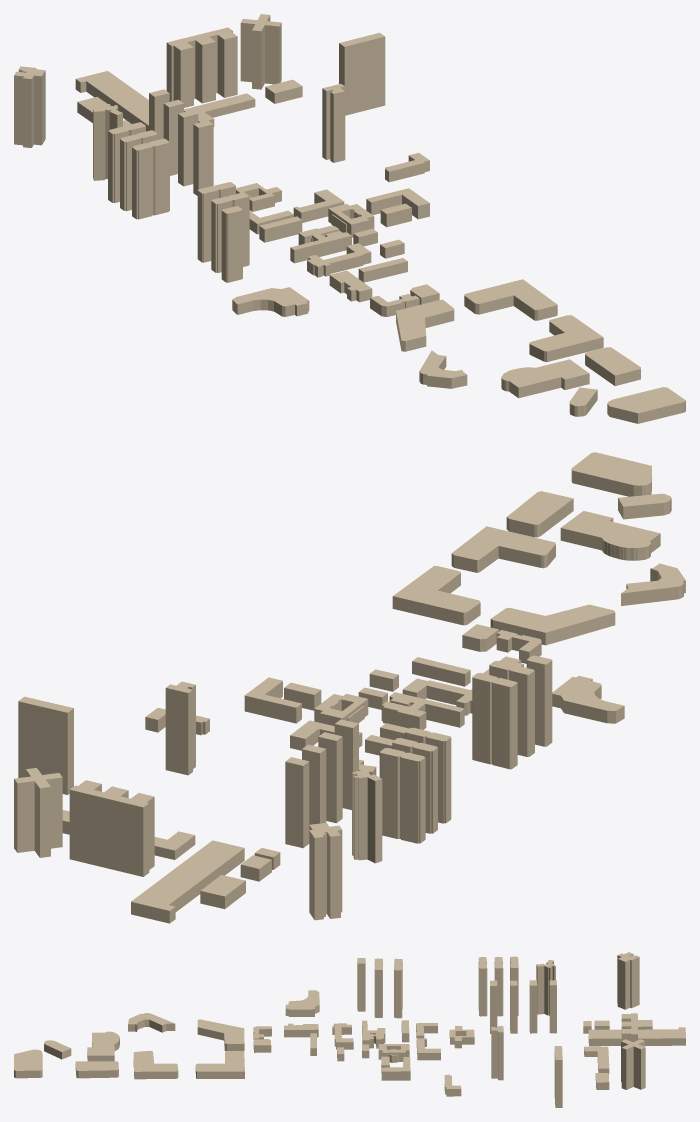
The model's file is -12_3-estimated-coarse.glb.
3 renders of one model, top to bottom at view 1: azimuth 30°, elevation 25°; view 2: azimuth 150°, elevation 25°; view 3: azimuth 270°, elevation 25°, orthographic. The views are drawn at different scales.
Bounding box in the file's own units: 385 × 78 × 991.
